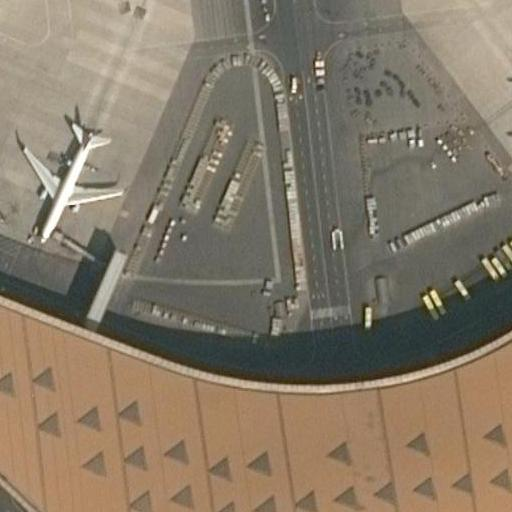Aircraft: (14, 109, 124, 247), (495, 56, 512, 163)
